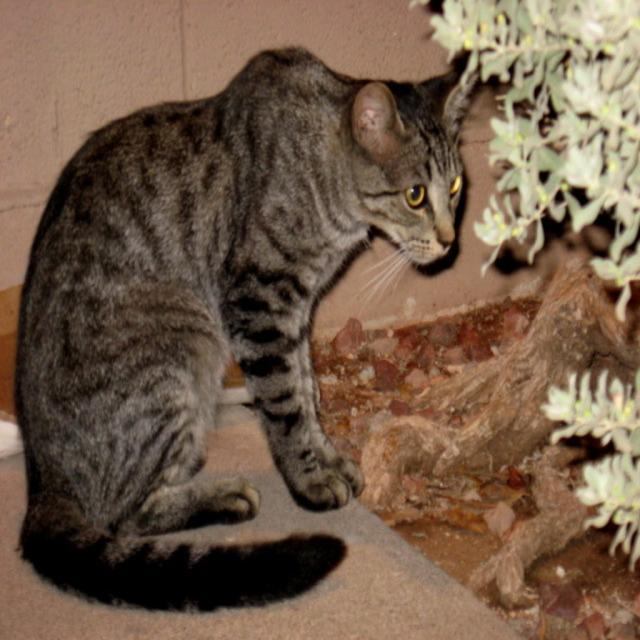Cat: (14, 44, 479, 614)
